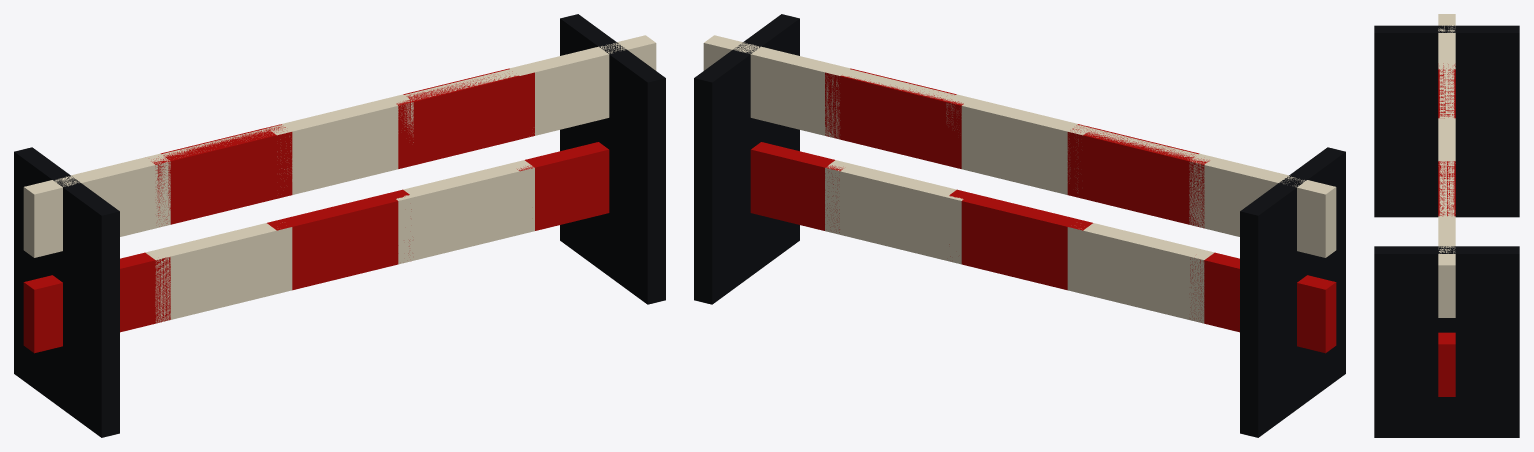
Rendered from road_barrier.obj.
3 views of the same model, side by side, from view 1: azimuth 30°, elevation 25°; view 2: azimuth 150°, elevation 25°; view 3: azimuth 270°, elevation 25° (orthographic). The views are drawn at different scales.
Parts seen in each view (by area): view 1: road_barrier; view 2: road_barrier; view 3: road_barrier.
Boxes of the visible parts, bbox=[...] form: road_barrier: bbox=[14, 14, 665, 437]; road_barrier: bbox=[694, 14, 1345, 437]; road_barrier: bbox=[1374, 14, 1519, 437].
Bounding box in the file's own units: 2.05 × 0.7 × 0.5.
